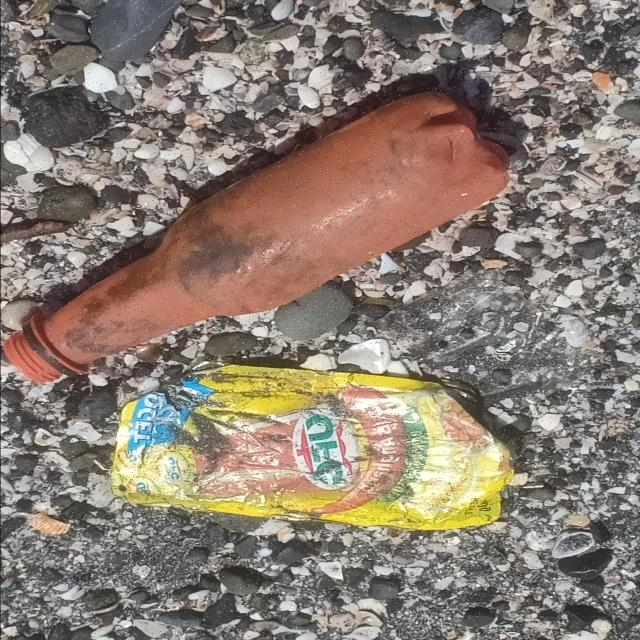plastic_waste: (3, 92, 513, 386), (110, 363, 521, 532)
